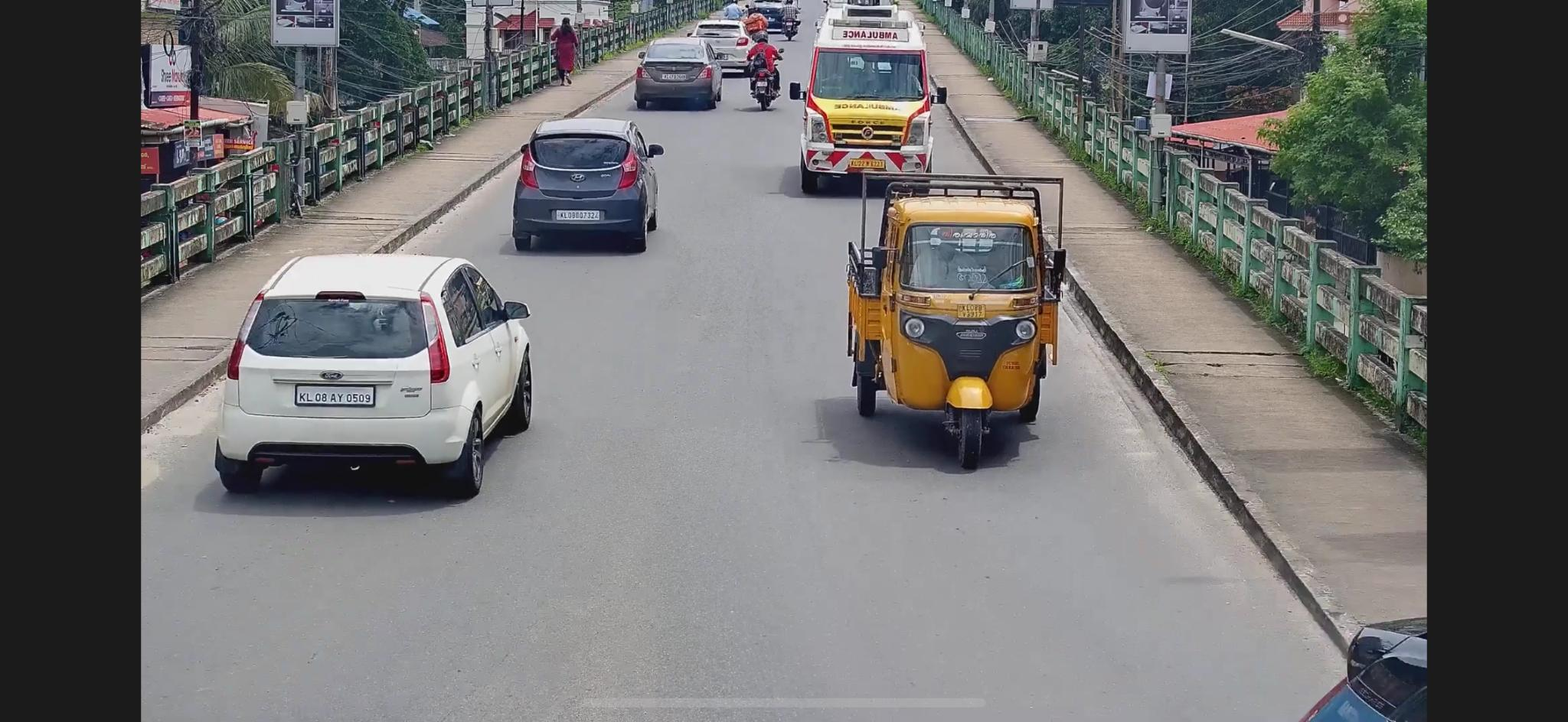ambulance: (795, 1, 928, 193)
